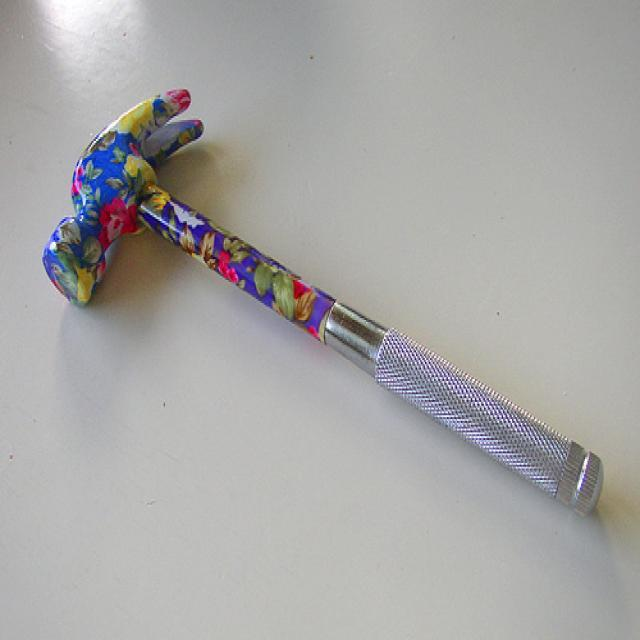hammer: (38, 76, 612, 545)
